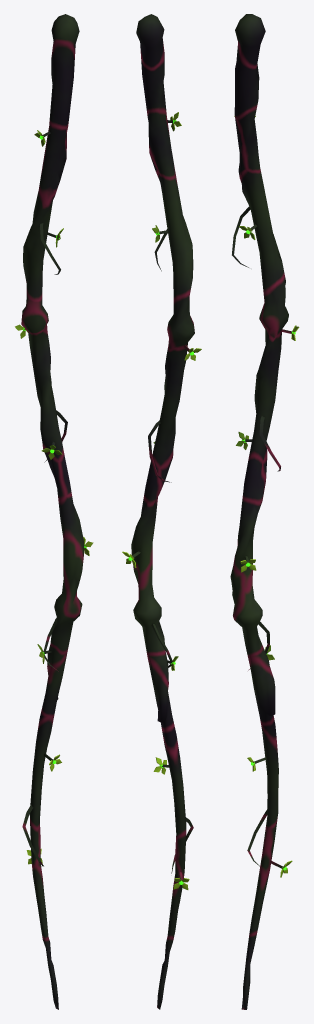
Rendered from liana_colgante.fbx.
The picture shows the model from 3 angles, left to right: view 1: azimuth 30°, elevation 25°; view 2: azimuth 210°, elevation 25°; view 3: azimuth 270°, elevation 25°; orthographic projection.
Parts seen in each view (by area): view 1: liana; view 2: liana; view 3: liana.
Boxes of the visible parts, x1,y1,x2,y2 form: liana: [15, 14, 93, 1009]; liana: [122, 14, 201, 1009]; liana: [230, 14, 299, 1009].
Size of the model in its own units: 0.5 by 8 by 0.5007.
1 material, 1 textured.
